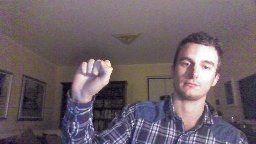Pugno: (68, 57, 115, 102)
